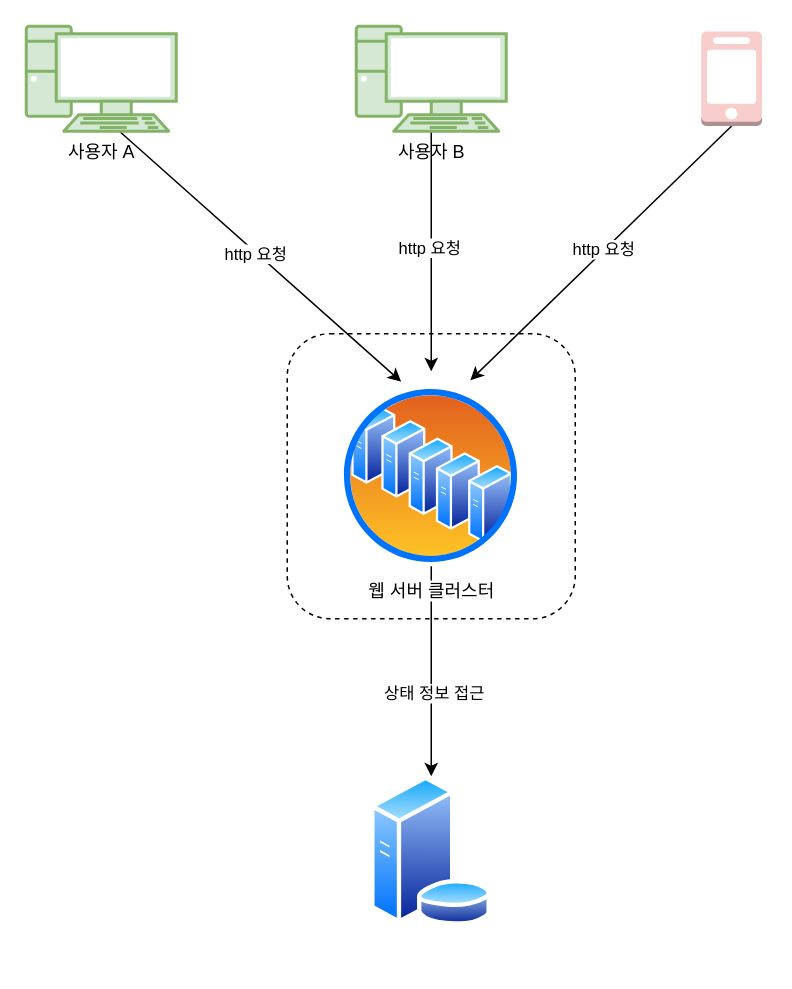
The diagram is 792 pixels wide and 989 high, and some of its shapes have lost their labels. The centre of each missing label's shape, as x and y in pixels:
"공유 저장소" goes at point (430, 851).
"사용자 C" goes at point (731, 78).
